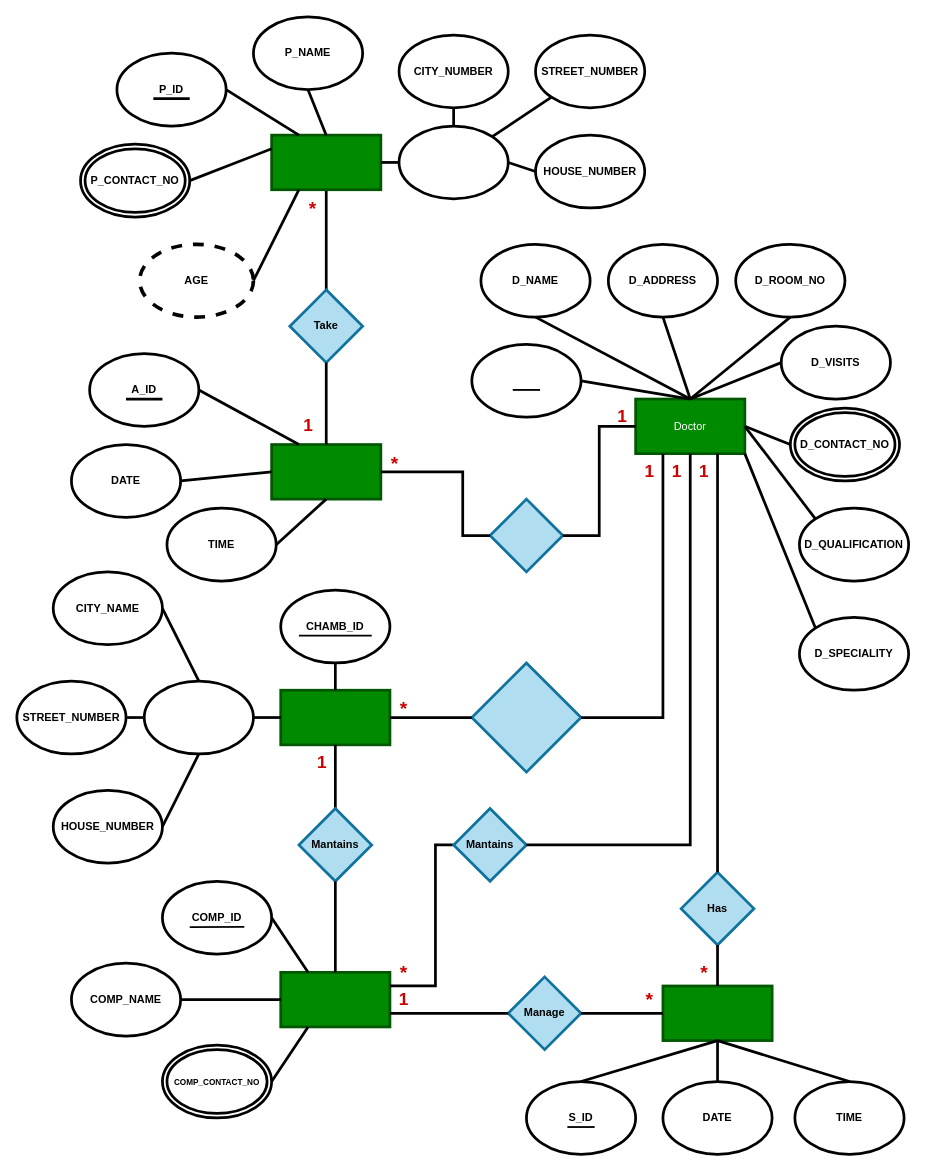
The diagram is 925 pixels wide and 1171 high, and some of its shapes have lost their labels. Each missing label, with the box of its shape:
Appointment: (270, 443, 382, 500)
Associated With: (470, 661, 582, 773)
Attend: (488, 497, 564, 573)
CHAMB_ADDRESS: (142, 679, 254, 755)
Chamber: (279, 688, 391, 746)
Compunder: (279, 971, 391, 1028)
D_ID: (470, 343, 582, 418)
P_ADDRESS: (397, 124, 509, 200)
Patient: (270, 133, 382, 191)
Schedule: (661, 984, 773, 1041)
